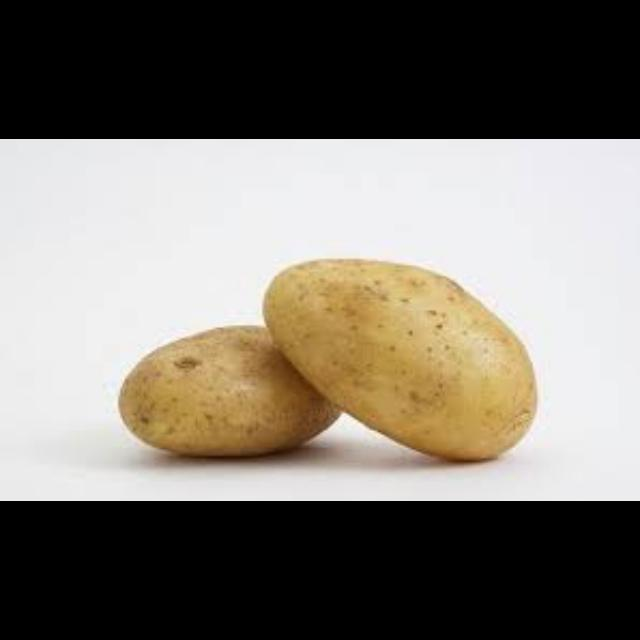Potato: (260, 256, 538, 462), (114, 322, 360, 462)
